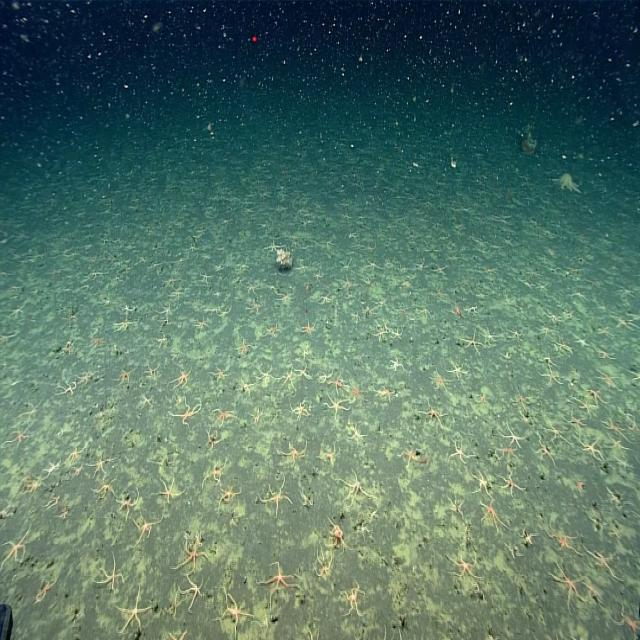brittle-stars: (547, 566, 587, 610), (257, 564, 299, 605), (114, 589, 149, 637), (217, 591, 250, 636), (259, 476, 291, 518), (0, 529, 30, 571), (584, 542, 618, 576), (546, 524, 581, 556), (612, 599, 640, 638), (174, 539, 207, 572), (449, 553, 484, 584), (96, 554, 124, 592), (339, 474, 372, 504), (482, 499, 508, 536), (172, 397, 202, 427), (133, 514, 161, 544), (497, 470, 526, 498), (541, 418, 572, 444), (180, 577, 202, 612), (498, 423, 527, 449), (420, 400, 446, 429), (600, 418, 631, 442), (341, 585, 363, 618), (155, 479, 184, 504), (323, 394, 349, 420), (280, 440, 307, 465), (86, 455, 116, 477), (204, 458, 228, 485), (312, 552, 335, 580), (448, 437, 471, 465), (116, 489, 138, 518), (578, 435, 602, 461), (328, 522, 348, 552), (429, 368, 454, 392), (18, 399, 42, 424), (36, 579, 59, 605), (3, 425, 29, 448), (532, 438, 554, 465), (219, 487, 242, 510), (470, 473, 492, 497), (169, 365, 190, 390), (23, 475, 44, 499), (210, 407, 236, 426), (41, 456, 61, 480), (288, 400, 309, 422), (511, 390, 532, 412), (58, 308, 79, 330), (114, 367, 138, 386), (320, 444, 340, 466), (462, 330, 482, 352), (446, 496, 466, 518), (606, 436, 630, 454), (574, 397, 598, 415), (169, 590, 185, 616), (398, 449, 422, 466), (596, 371, 620, 388), (77, 368, 98, 387), (256, 368, 276, 387), (446, 363, 467, 381), (276, 371, 297, 389), (503, 542, 524, 560), (583, 387, 606, 403), (92, 484, 116, 499), (614, 456, 634, 474), (622, 409, 640, 429), (566, 411, 587, 428), (65, 447, 84, 465), (55, 382, 75, 399), (204, 429, 220, 450), (445, 302, 466, 318), (540, 368, 562, 383), (586, 508, 604, 526), (381, 624, 401, 640), (346, 428, 366, 444), (582, 578, 598, 598), (338, 275, 354, 295), (262, 241, 284, 255), (497, 446, 519, 460), (114, 318, 133, 334), (209, 367, 230, 381), (298, 486, 312, 506), (0, 502, 16, 519), (538, 353, 555, 369), (554, 339, 572, 354), (295, 364, 311, 380), (44, 496, 60, 512), (507, 328, 523, 344), (306, 623, 321, 640), (380, 385, 395, 402), (7, 304, 24, 319), (596, 348, 614, 362), (241, 281, 260, 294), (356, 522, 368, 542), (239, 382, 256, 396), (390, 355, 404, 372), (236, 341, 254, 354), (608, 486, 620, 505), (265, 323, 281, 337), (70, 464, 84, 480), (483, 329, 499, 343), (614, 315, 630, 329), (597, 324, 613, 338), (371, 329, 388, 342), (518, 278, 536, 290), (374, 294, 389, 308), (572, 288, 586, 303), (476, 286, 491, 300), (88, 336, 105, 348), (318, 290, 332, 304), (146, 364, 160, 378), (158, 304, 172, 318), (248, 301, 262, 315), (318, 372, 333, 385), (483, 264, 498, 277), (391, 324, 403, 340), (545, 311, 561, 323), (163, 275, 180, 286), (302, 323, 316, 336), (140, 394, 154, 407), (352, 387, 365, 401), (198, 272, 212, 285), (431, 284, 445, 297), (524, 533, 539, 545), (332, 378, 342, 396), (536, 325, 554, 335), (364, 260, 382, 270), (295, 262, 311, 273), (195, 318, 209, 330), (218, 306, 232, 318), (339, 258, 353, 270), (628, 368, 640, 382), (249, 407, 260, 422), (202, 307, 220, 316), (464, 306, 480, 316), (412, 262, 428, 272), (0, 332, 16, 342), (278, 292, 291, 304), (575, 336, 588, 348), (237, 260, 250, 272), (156, 333, 167, 347), (369, 507, 380, 521), (84, 272, 105, 279), (56, 508, 68, 520), (498, 350, 512, 360), (11, 376, 25, 386), (64, 341, 74, 355), (535, 282, 549, 292), (300, 345, 309, 360), (170, 290, 182, 301), (420, 305, 430, 318), (476, 395, 490, 404), (432, 265, 446, 274), (313, 268, 322, 282), (352, 310, 360, 325), (395, 304, 408, 313), (122, 304, 133, 314), (100, 297, 111, 306), (574, 479, 582, 491), (326, 238, 333, 247)
